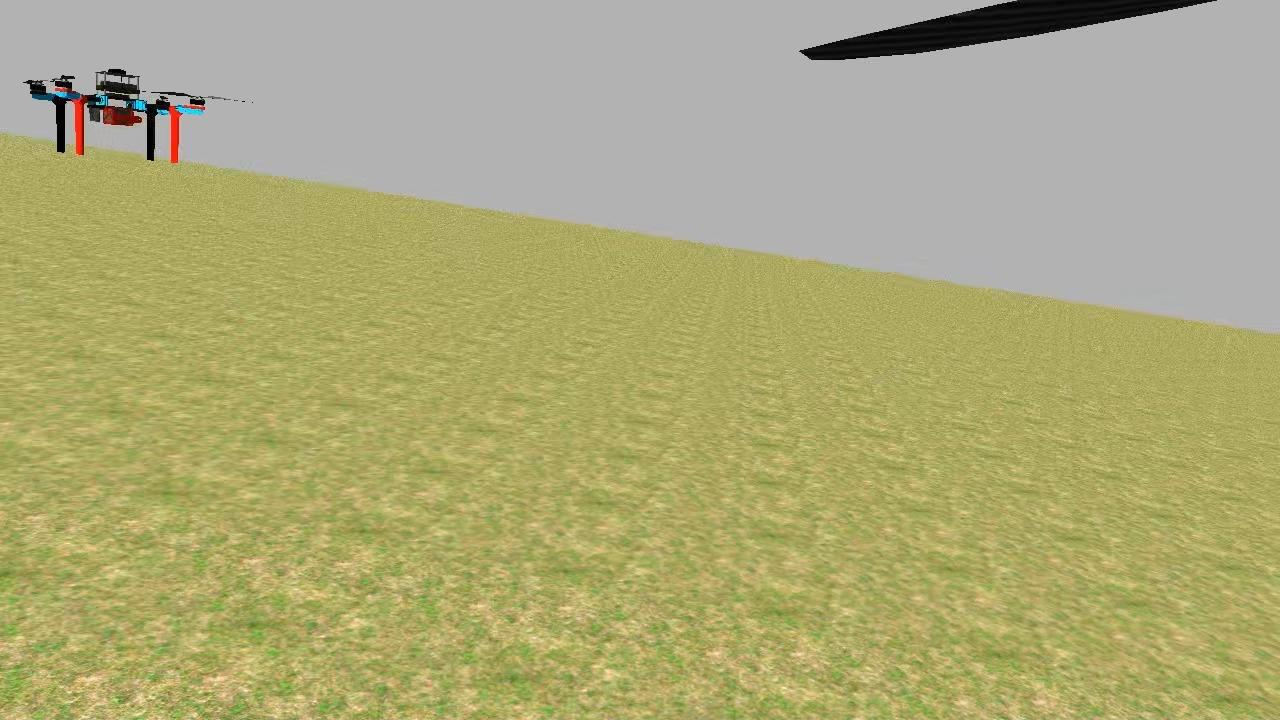UAV: (24, 62, 214, 174)
